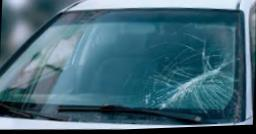Windshield: (93, 8, 244, 124)
